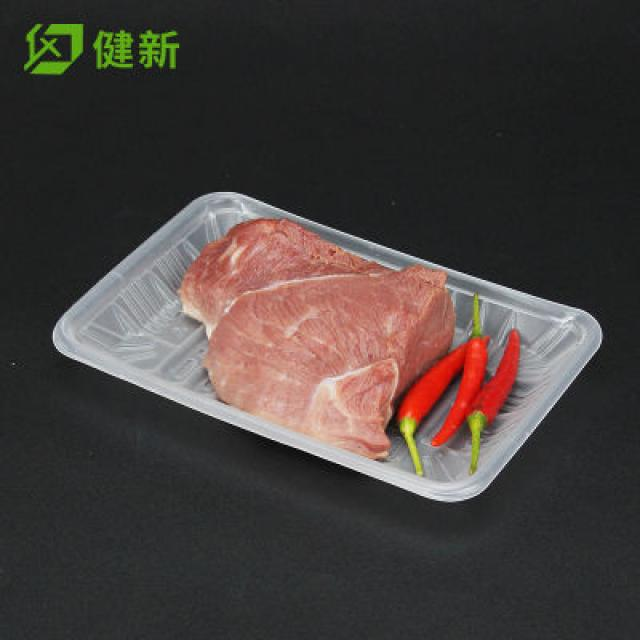pork: (118, 183, 494, 492)
